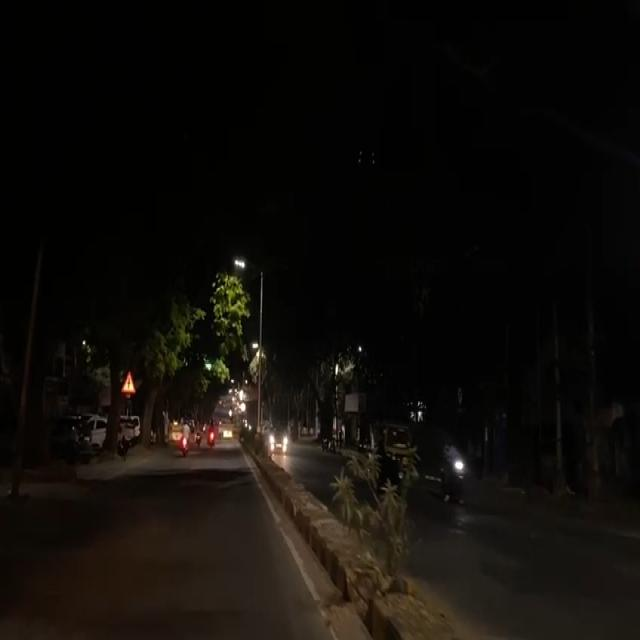bien_cam: (120, 368, 136, 396)
